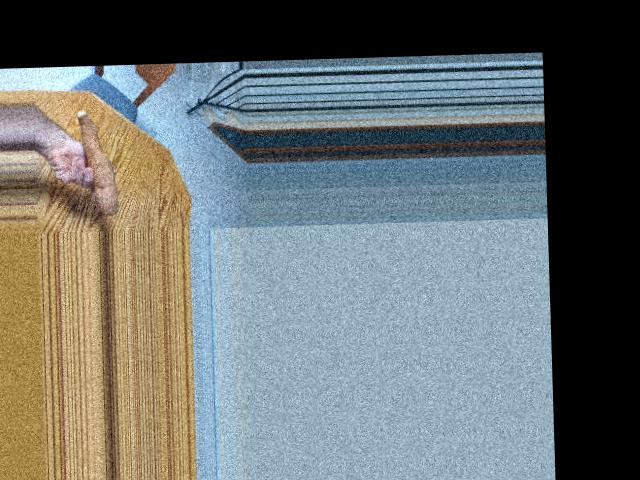sweet_potato: (70, 111, 124, 213)
